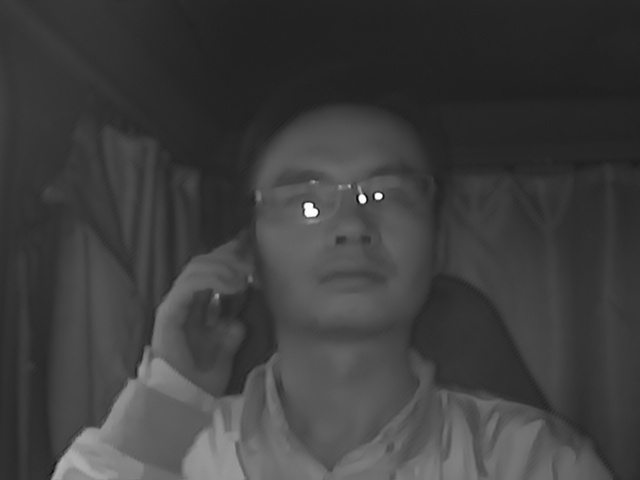hand: (156, 240, 258, 391)
